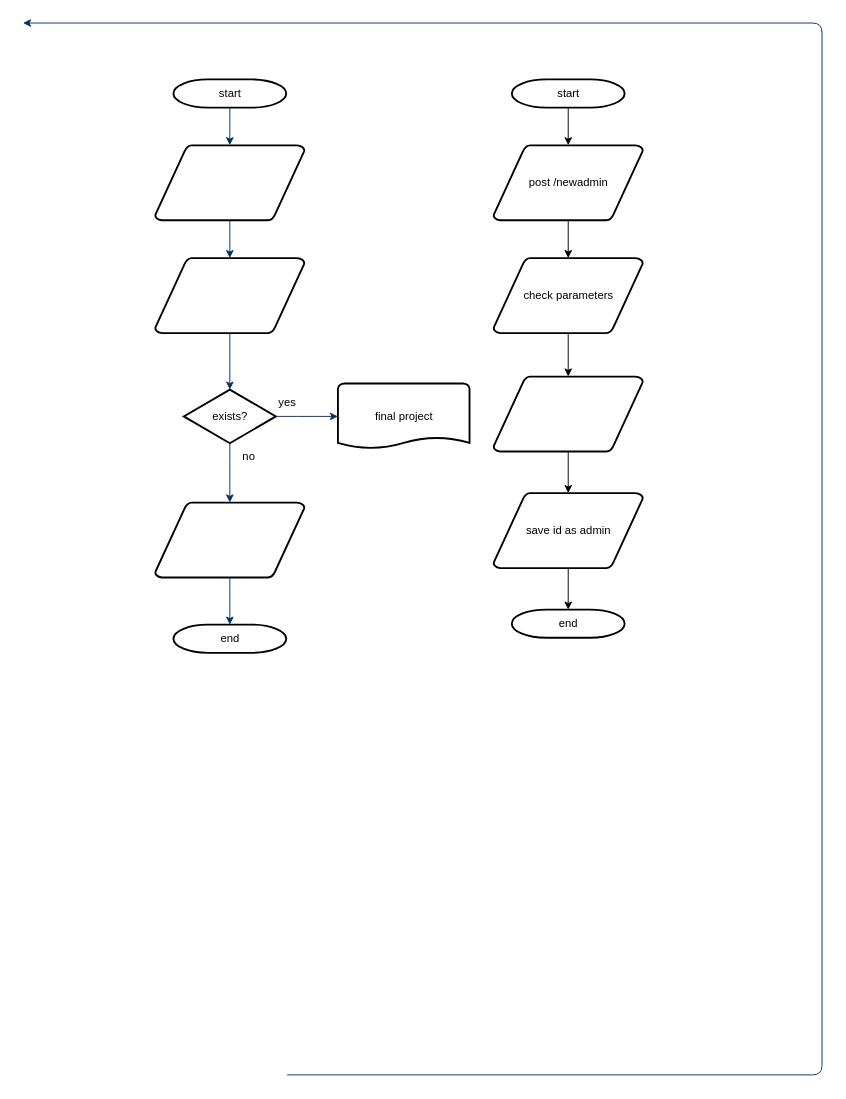
Image size: 846x1099. Some labels were removed from this diagram. The centre of each missing label's shape, as x and y in pixels:
check admin: point 229,295
GET *: point 229,182
post /oauth/newuser: point 567,413
render newadmin.pug: point 229,539
